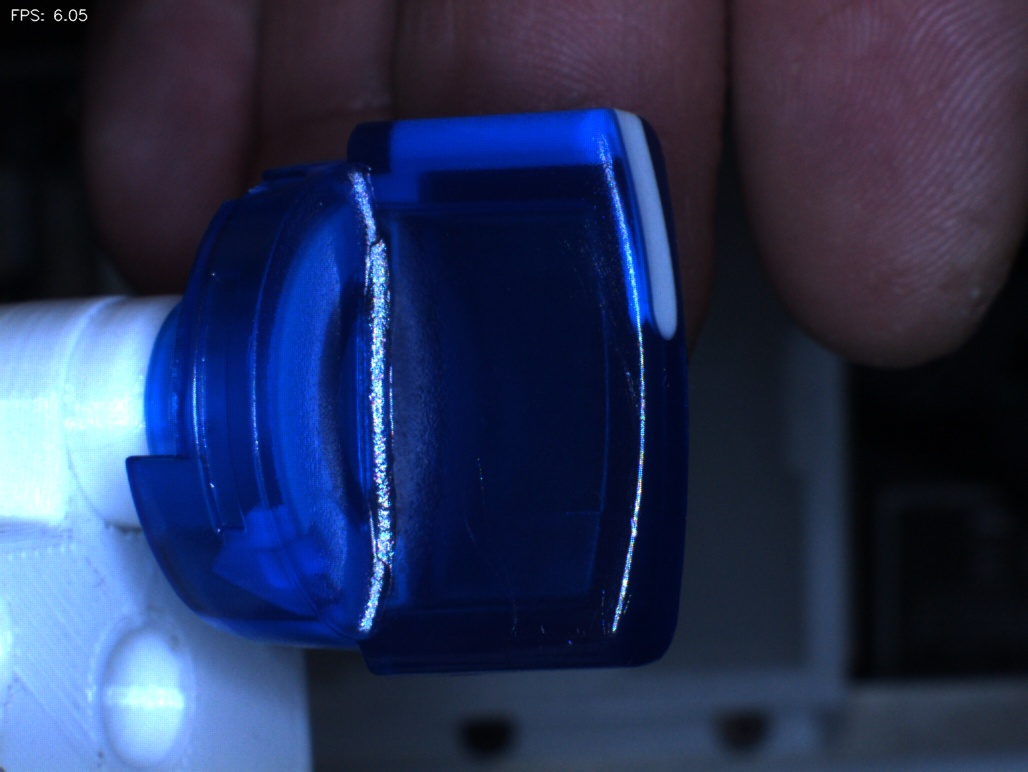Givrage: (552, 191, 648, 405), (451, 444, 535, 636)
